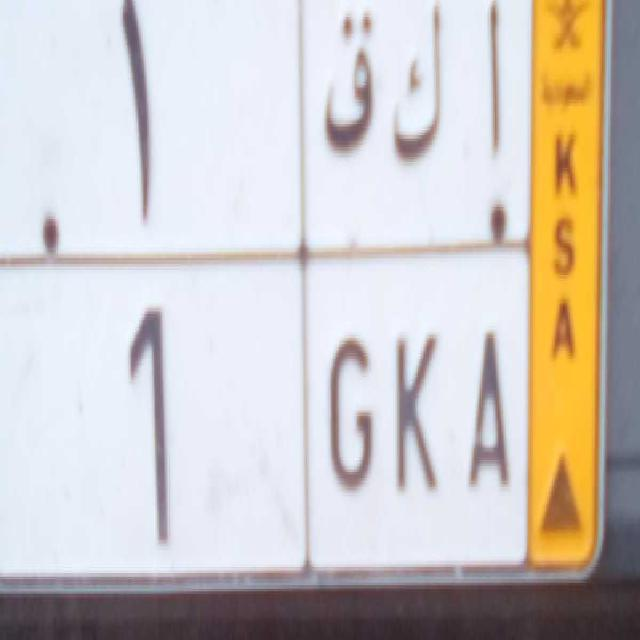license_plate: (0, 245, 533, 577)
